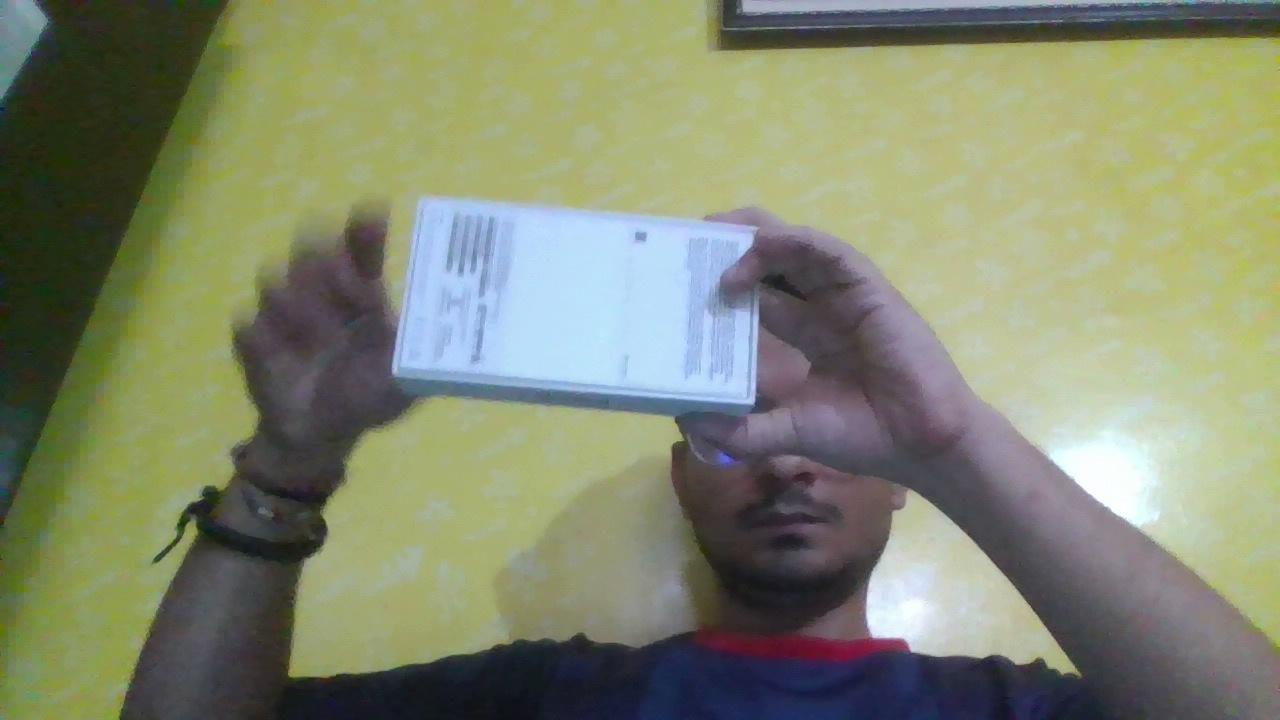Phone: (366, 153, 810, 464)
